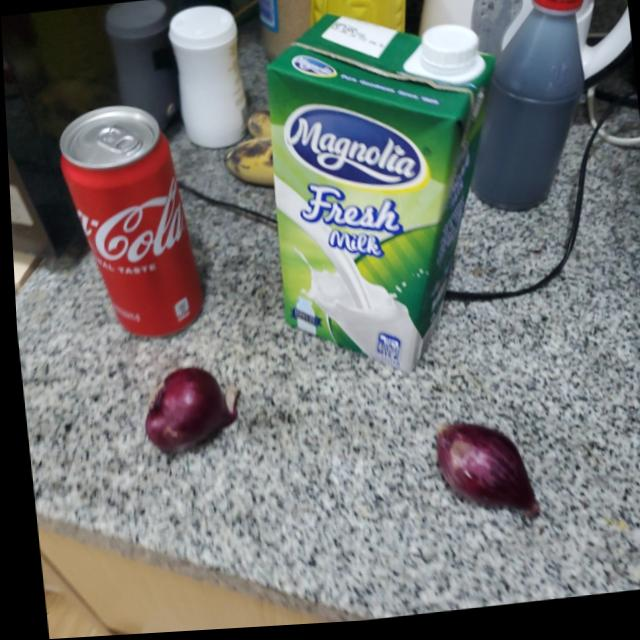coke: (54, 99, 208, 346)
milk: (249, 0, 522, 391)
onion: (428, 415, 535, 540), (136, 364, 238, 460)
